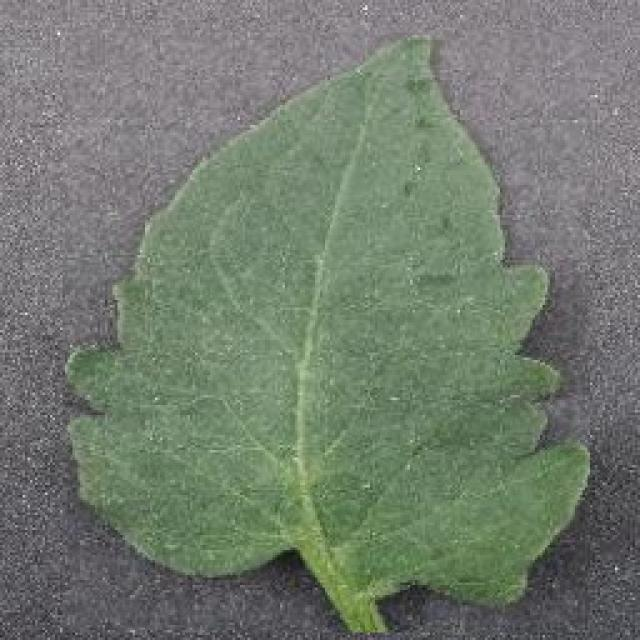Healthy: (62, 28, 590, 632)
